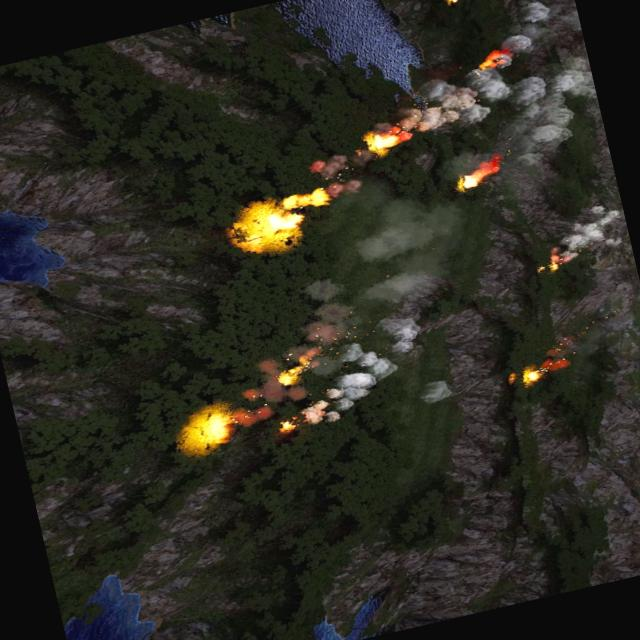fire: (225, 190, 324, 257), (184, 409, 234, 450), (453, 158, 504, 192), (364, 122, 409, 154), (266, 358, 310, 388), (473, 49, 506, 72), (540, 249, 564, 275), (520, 367, 546, 388), (276, 416, 298, 434), (442, 0, 475, 5)
smoke: (259, 187, 504, 432), (400, 44, 606, 178), (488, 0, 582, 57), (548, 203, 625, 258), (307, 148, 371, 205), (537, 334, 582, 373)
